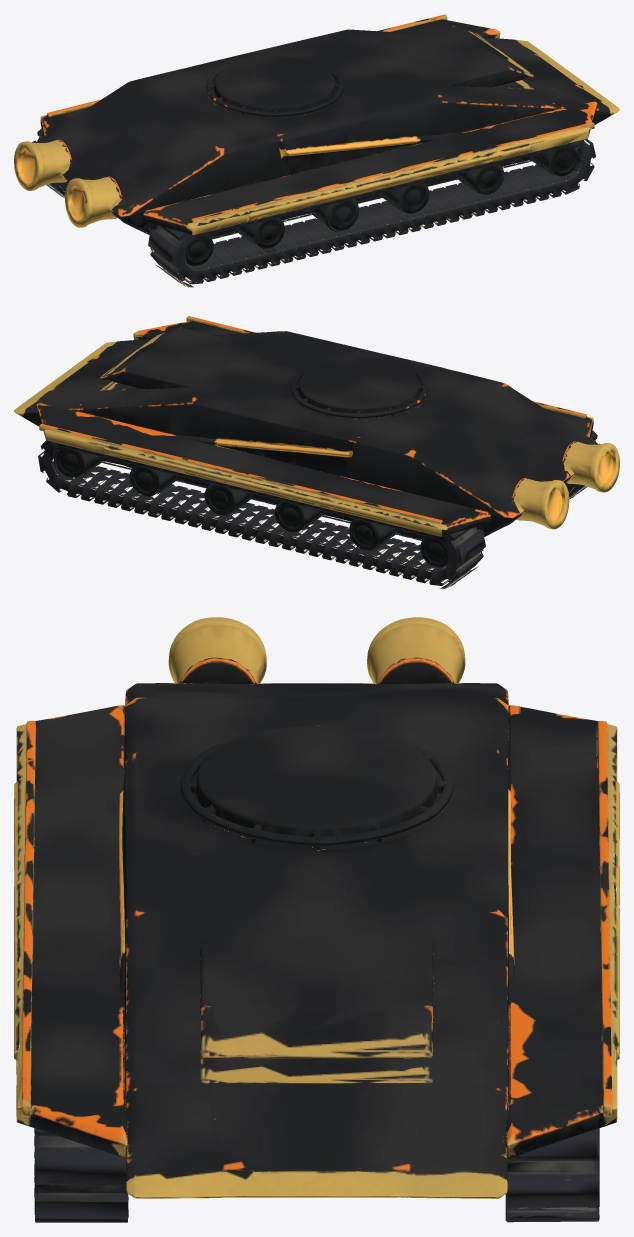
File: chassis-scout-2-full.glb
The picture shows the model from 3 angles, top to bottom: view 1: azimuth 30°, elevation 25°; view 2: azimuth 150°, elevation 25°; view 3: azimuth 270°, elevation 25°; orthographic projection. The views are drawn at different scales.
Visible parts, largest first — view 1: chassis-scout-2-full; view 2: chassis-scout-2-full; view 3: chassis-scout-2-full.
Part boxes in pixels (x1,y1,x2,y2): chassis-scout-2-full: (14,14,619,287); chassis-scout-2-full: (14,316,619,588); chassis-scout-2-full: (14,617,619,1222).
Size of the model in its own units: 1.98 by 0.422 by 1.
Materials: 1 (1 with a texture image).
